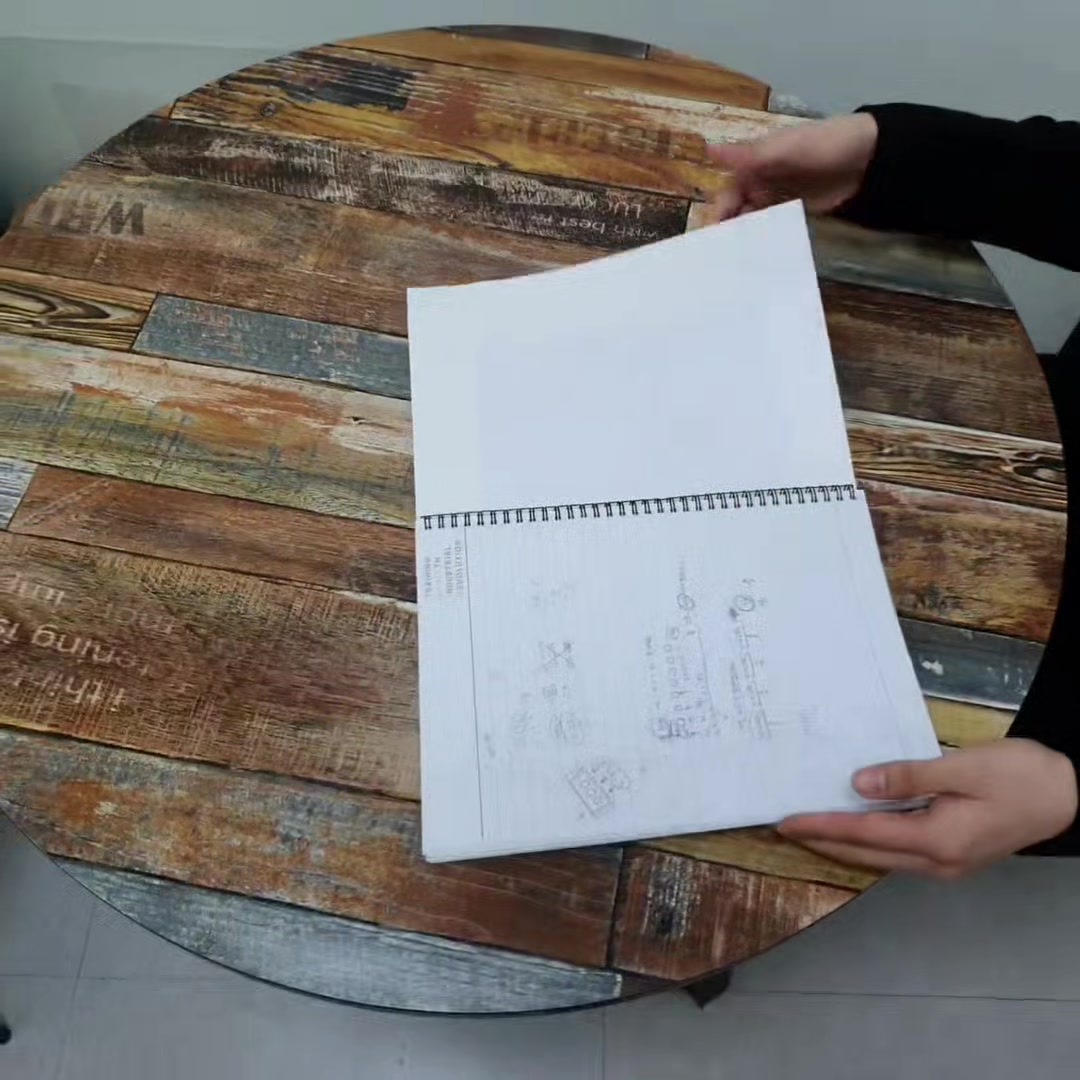book: (402, 189, 945, 854)
